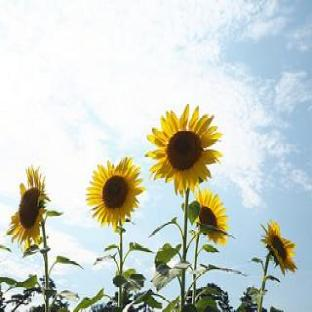sunflower: (146, 105, 222, 196), (85, 157, 145, 234)
